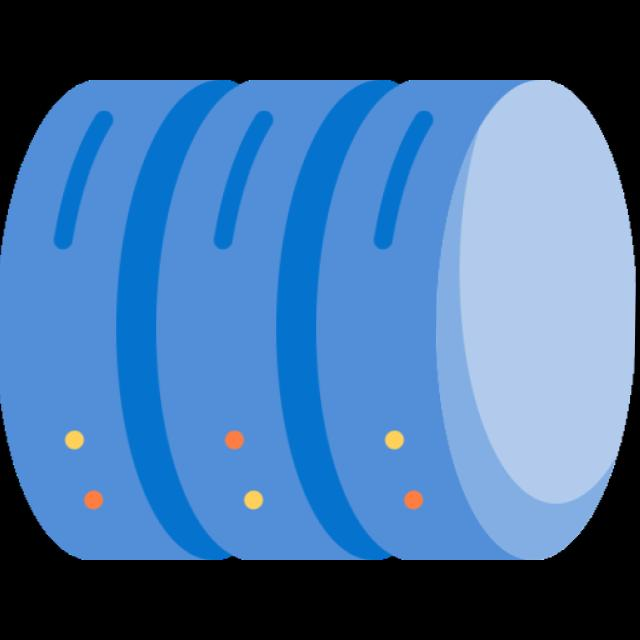Database: (0, 18, 634, 640)
